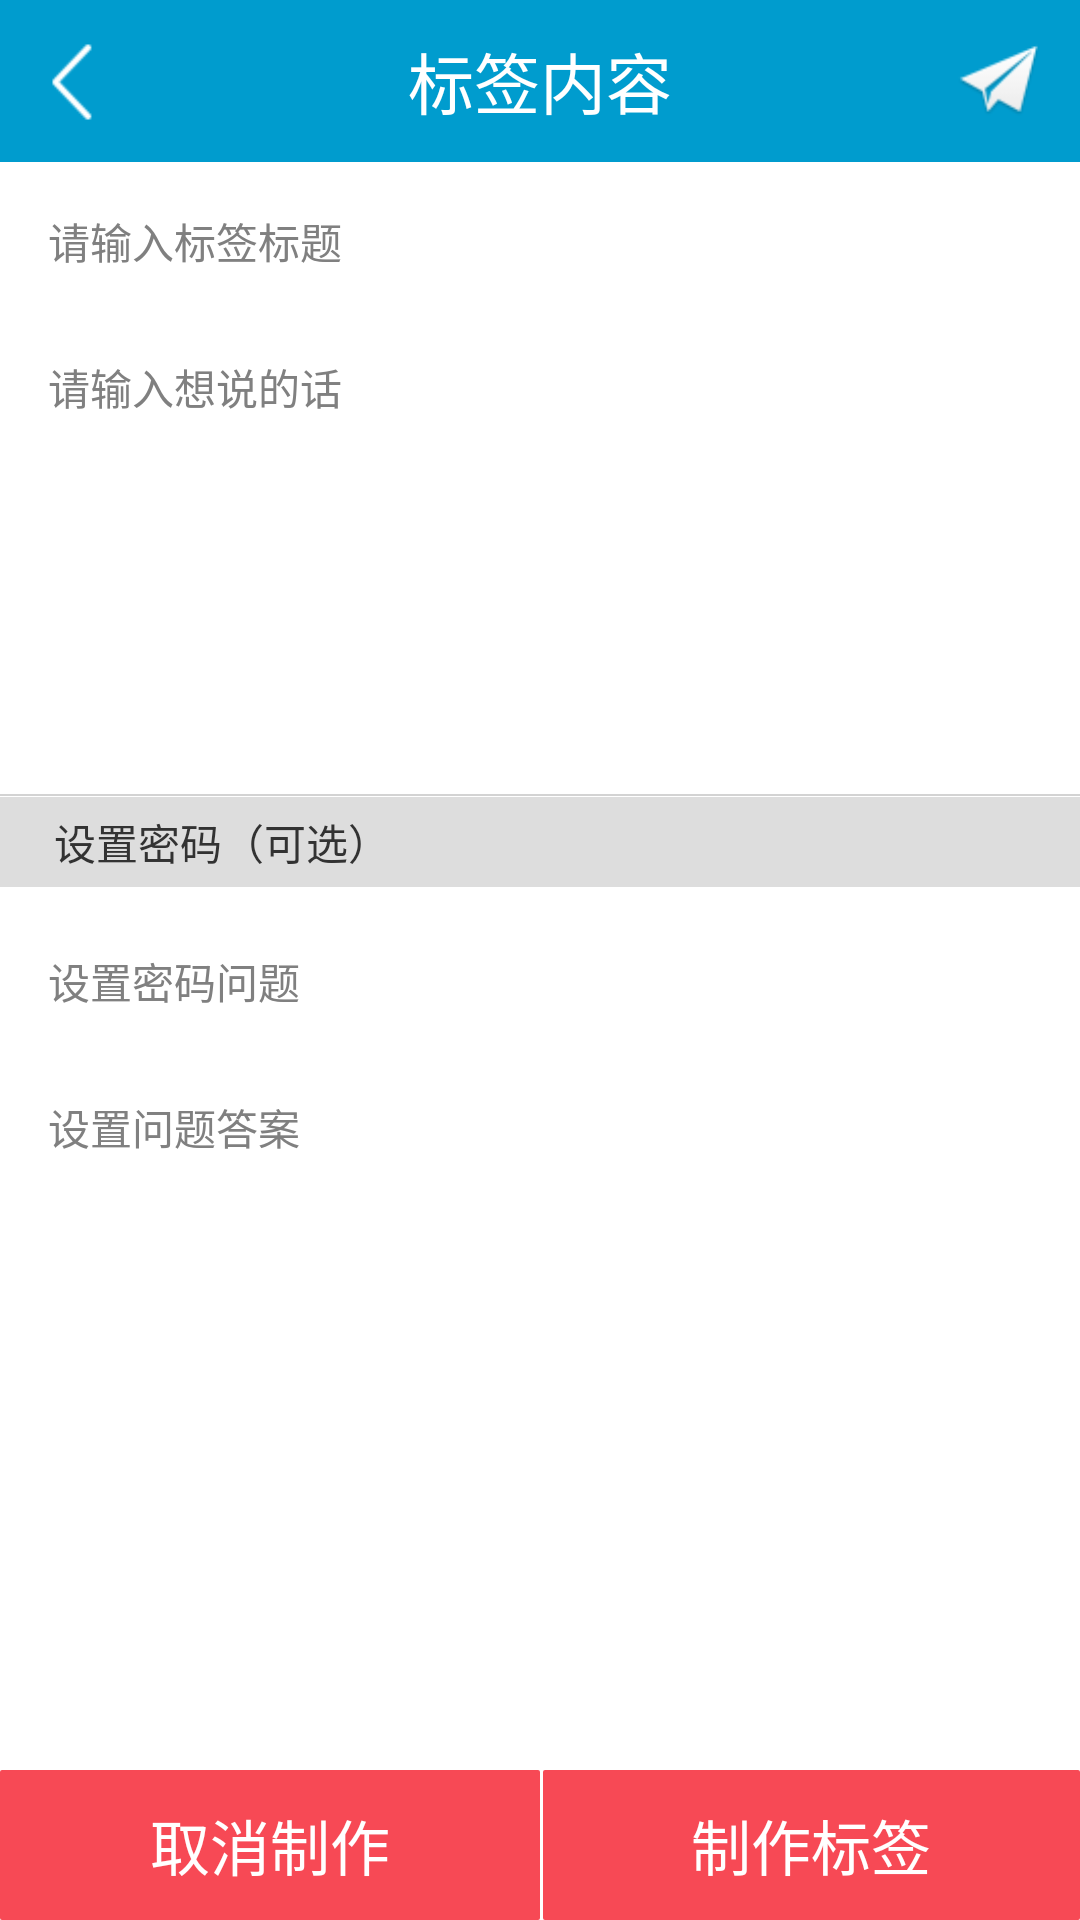

Point at icon controls on the screen. Image size 1080px×1920px, points as (x,y).
upload send: (999,79)
